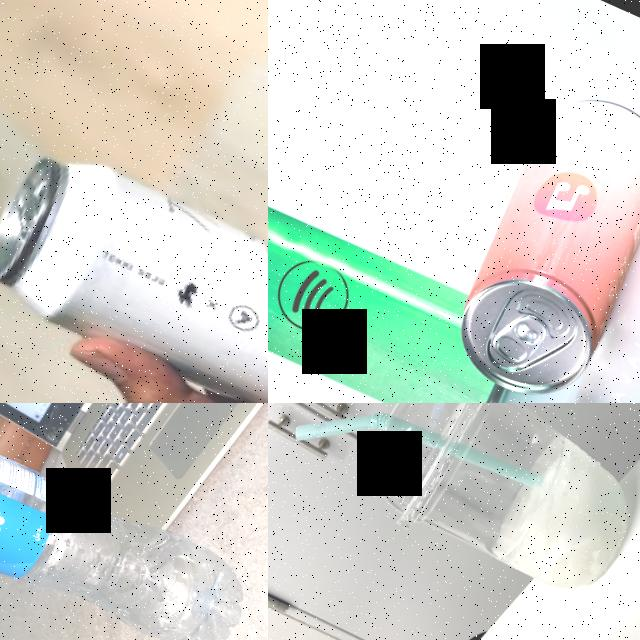bottle: (0, 403, 263, 640)
can: (0, 133, 268, 403), (436, 77, 640, 403), (268, 180, 536, 403)
cup: (349, 403, 640, 613)
